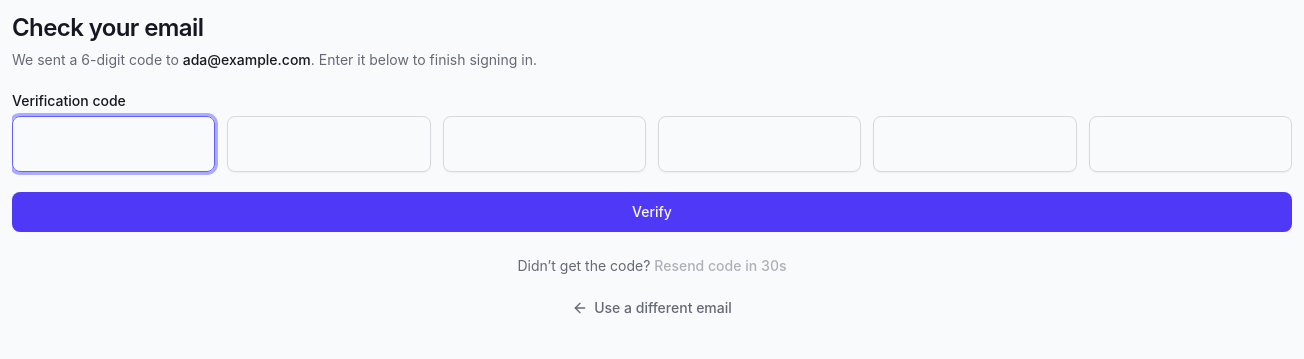
Scenario: OneTimeCodeForm › asks for the code when Verify is pressed with nothing entered
This screenshot has width=1304, height=359.
Click the button "Verify" at {"x": 652, "y": 212}, box 12,192 -> 1292,232
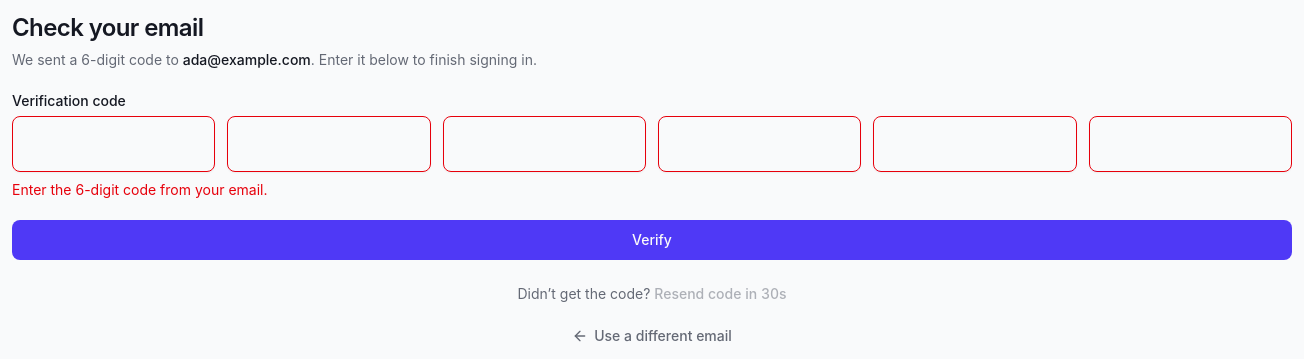
Now the text "Enter the 6-digit code from your email." is shown, box 12,181 -> 268,198
